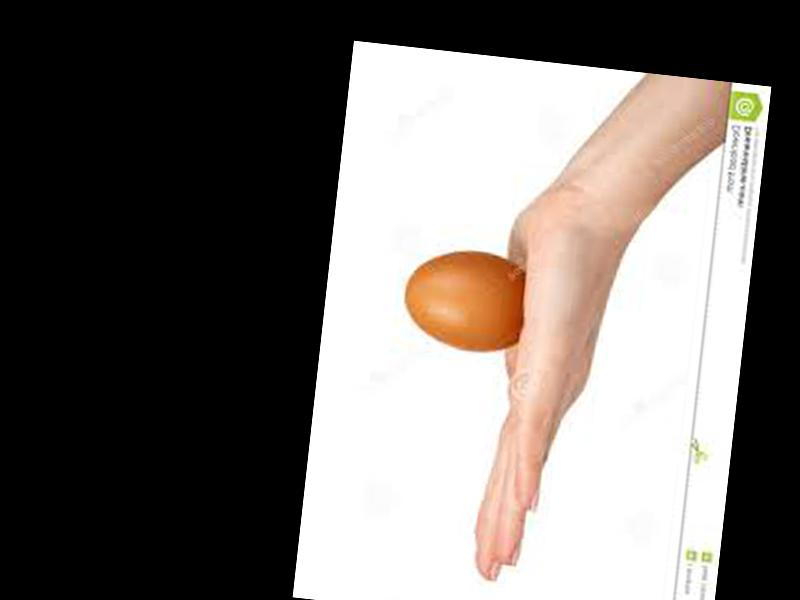Eggs: (400, 246, 532, 357)
